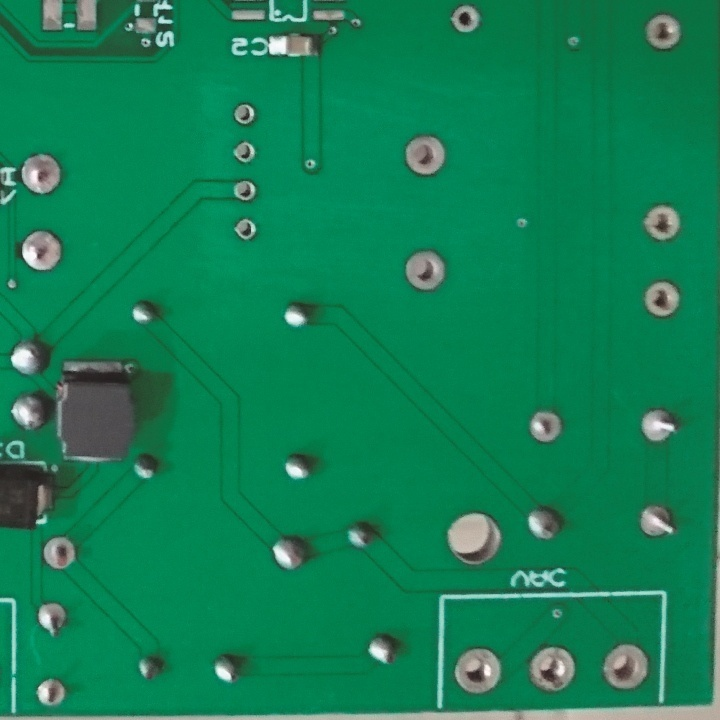F: (599, 643, 656, 693), (452, 647, 504, 698), (528, 644, 578, 695), (401, 246, 448, 293), (401, 131, 447, 179), (13, 154, 67, 194), (19, 230, 67, 272), (640, 201, 684, 243), (637, 504, 681, 544), (642, 278, 684, 319), (39, 533, 79, 575), (644, 13, 684, 54), (527, 407, 566, 447), (639, 407, 678, 446), (34, 600, 71, 640), (450, 2, 482, 40), (33, 677, 70, 709), (230, 175, 261, 205), (228, 138, 260, 166), (228, 100, 259, 128), (230, 215, 260, 242)
